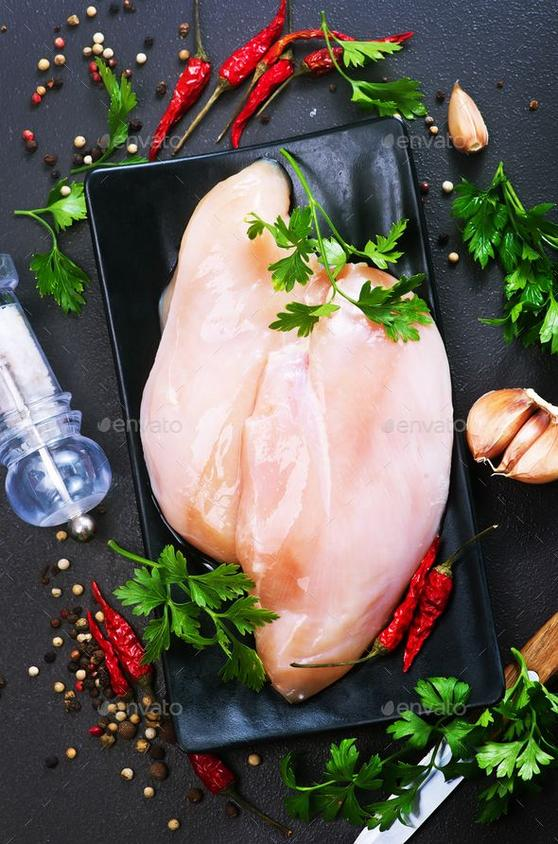chicken_fillet: (254, 267, 460, 706), (136, 178, 306, 539)
